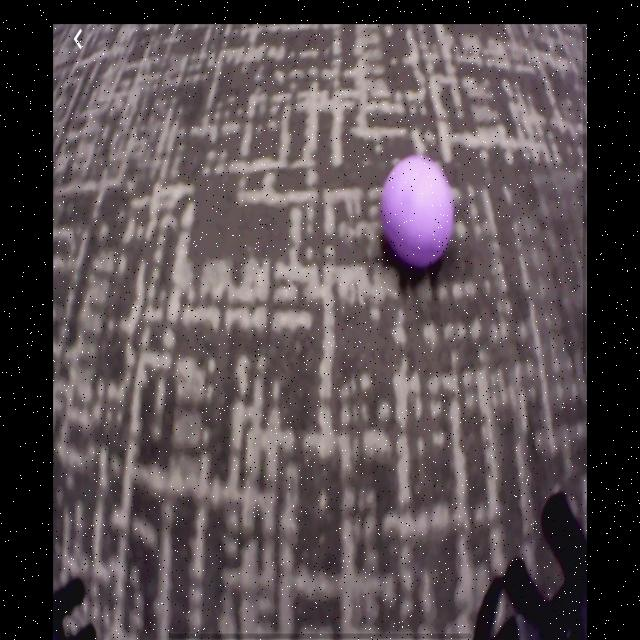ball: (379, 158, 457, 274)
